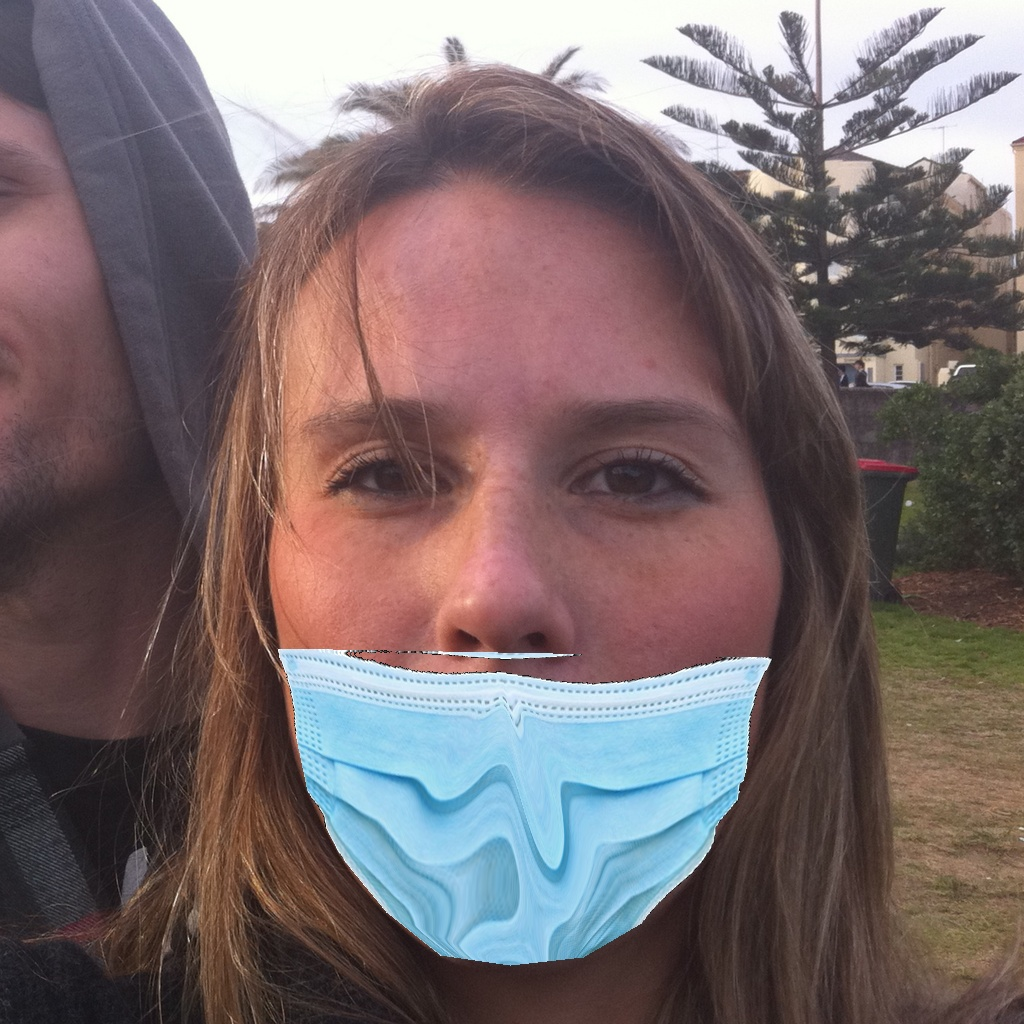mascarilla_mal_puesta: (257, 340, 784, 965)
